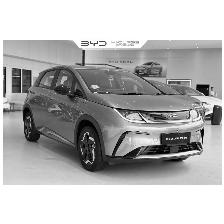EV: (21, 65, 205, 175)
